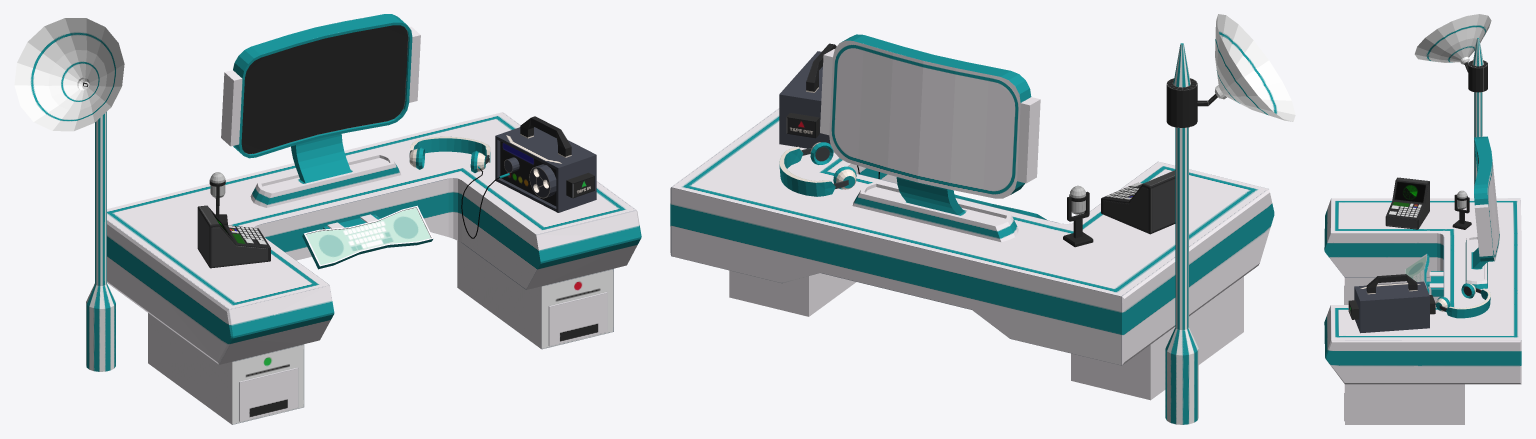
Rendered from Communication.dae.
The picture shows the model from 3 angles, left to right: view 1: azimuth 30°, elevation 25°; view 2: azimuth 150°, elevation 25°; view 3: azimuth 270°, elevation 25°; orthographic projection. The views are drawn at different scales.
Parts seen in each view (by area): view 1: Desk Component, Monitor, Antenna, Tape Player, Keyboard, Radar Device, Headset; view 2: Desk Component, Monitor, Antenna, Tape Player, Radar Device, Headset, Microphone; view 3: Desk Component, Tape Player, Antenna, Monitor, Radar Device, Headset, Keyboard, Microphone.
Part boxes in pixels (x1,y1,x2,y2): Desk Component: [107, 112, 641, 424]; Monitor: [221, 14, 420, 207]; Antenna: [14, 18, 124, 371]; Tape Player: [495, 116, 596, 212]; Keyboard: [302, 205, 433, 269]; Radar Device: [197, 205, 270, 268]; Headset: [409, 136, 509, 238]; Desk Component: [670, 108, 1274, 400]; Monitor: [820, 34, 1040, 242]; Antenna: [1165, 14, 1295, 424]; Tape Player: [779, 43, 836, 148]; Radar Device: [1101, 170, 1175, 234]; Headset: [779, 142, 879, 196]; Microphone: [1063, 185, 1093, 247]; Desk Component: [1324, 198, 1521, 424]; Tape Player: [1348, 274, 1435, 333]; Antenna: [1414, 14, 1491, 197]; Monitor: [1465, 136, 1499, 292]; Radar Device: [1385, 177, 1429, 229]; Headset: [1435, 283, 1490, 318]; Keyboard: [1404, 254, 1443, 296]; Microphone: [1452, 190, 1471, 229].
Bounding box in the file's own units: 6.06 × 2.79 × 3.99.
